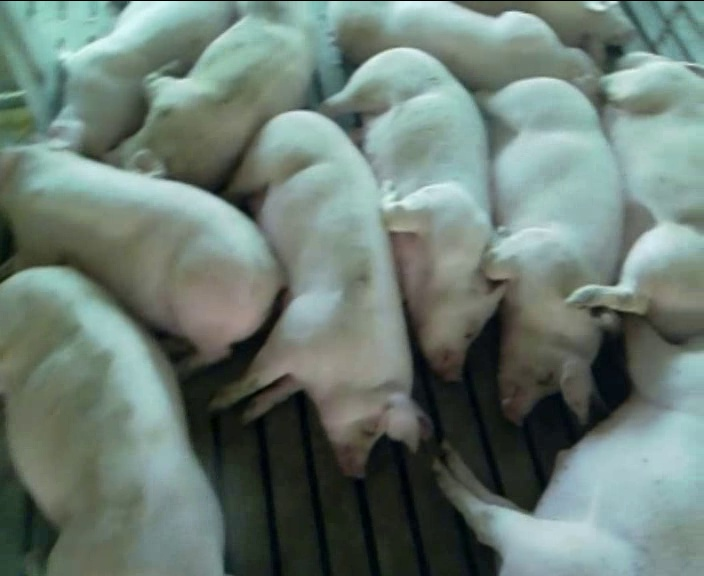pig: (211, 111, 430, 477), (434, 318, 703, 574), (322, 48, 502, 380), (474, 79, 621, 423), (568, 53, 703, 342), (105, 16, 312, 188), (47, 2, 234, 156), (330, 2, 598, 95)
